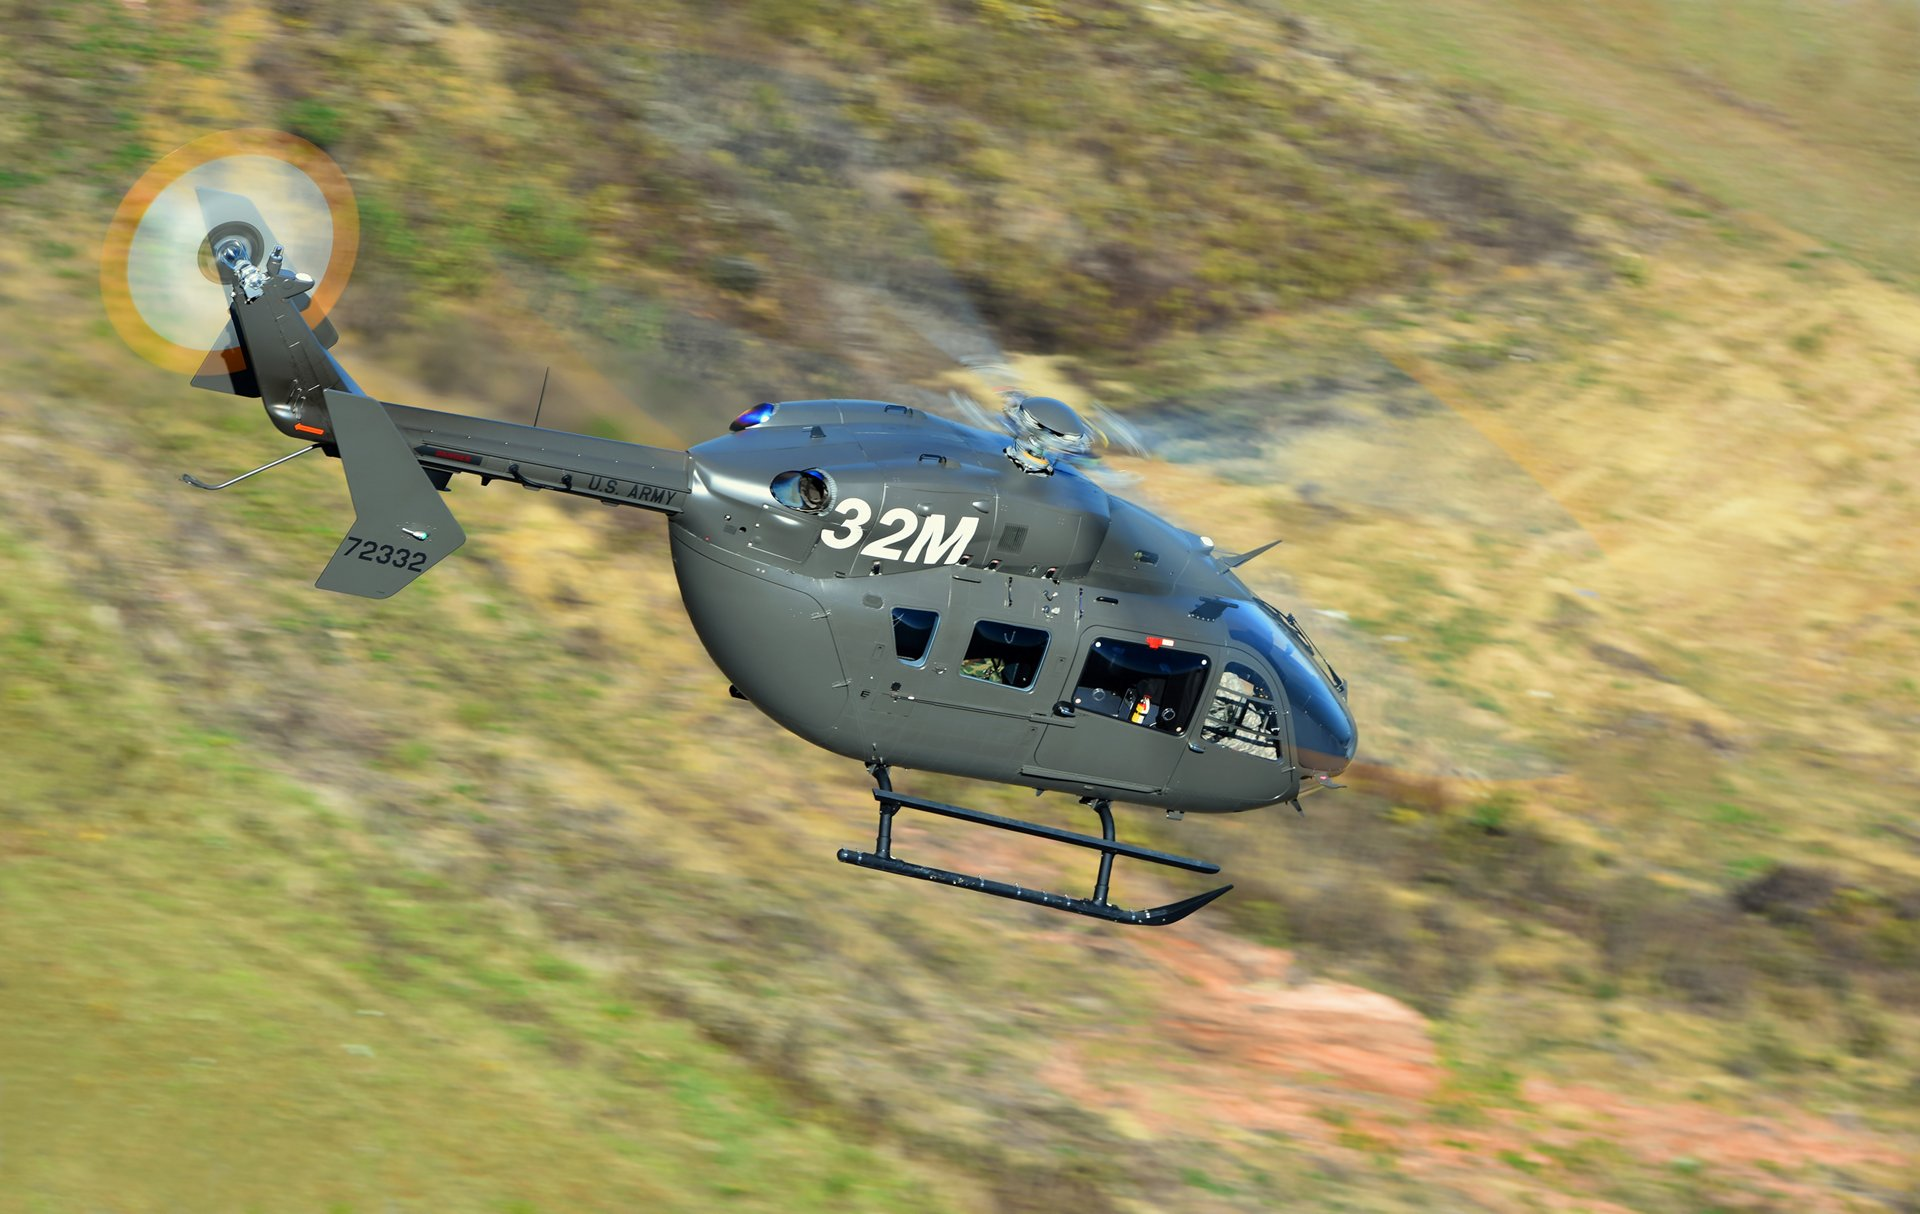MilitaryHelicopter: (136, 159, 1424, 945)
